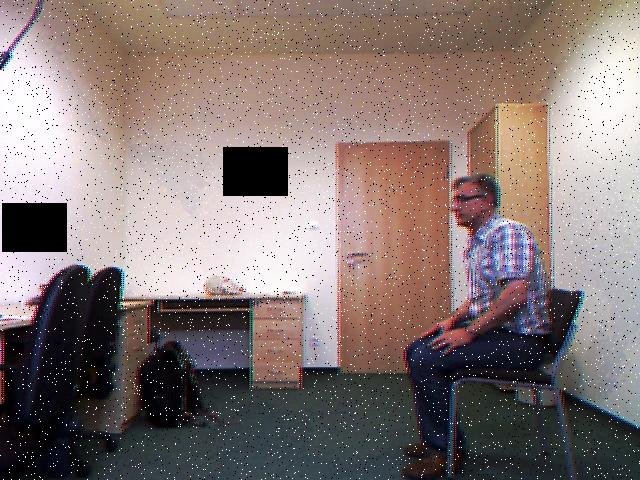sitting: (365, 162, 562, 480)
